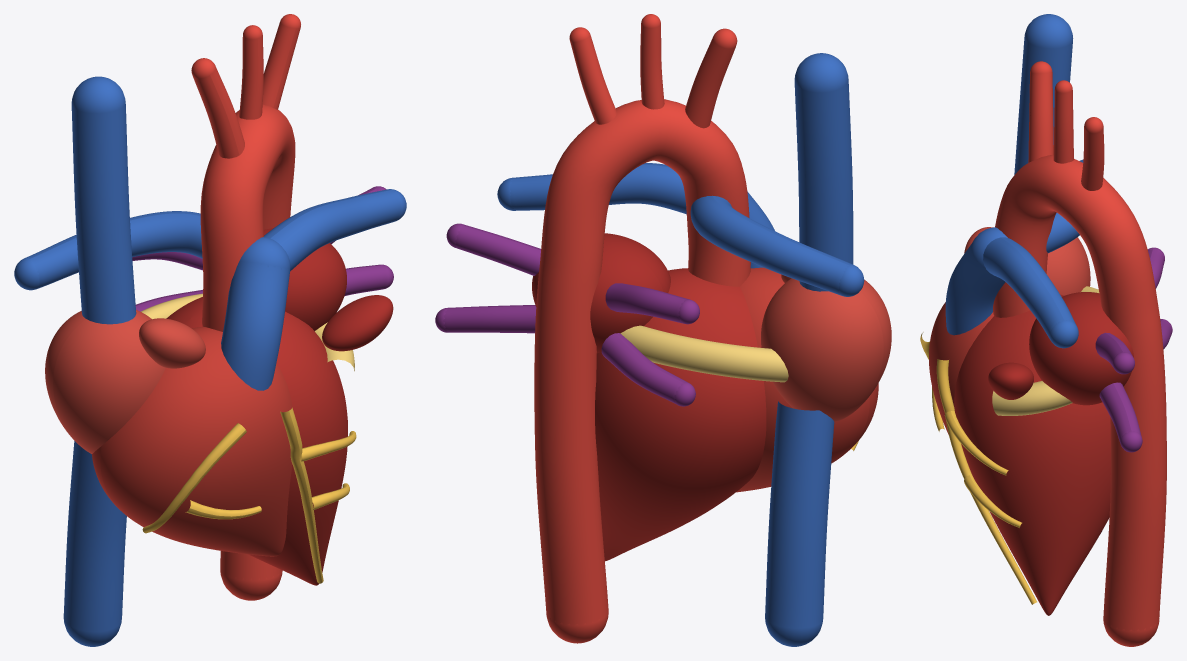
File: heart.glb
3 renders of one model, left to right at view 1: azimuth 30°, elevation 25°; view 2: azimuth 150°, elevation 25°; view 3: azimuth 270°, elevation 25°, orthographic. The views are drawn at different scales.
Parts seen in each view (by area): view 1: RightVentricle, Aorta, LeftVentricle, SuperiorVenaCava, RightAtrium, InferiorVenaCava, PulmonaryArtery, PulmonaryArtery_Left, PulmonaryArtery_Right, LeftAtrium, LeftAtrium_Auricle, RightAtrium_Auricle (+15 smaller); view 2: Aorta, LeftVentricle, RightAtrium, InferiorVenaCava, SuperiorVenaCava, PulmonaryArtery_Right, CoronaryArteries_Groove, LeftAtrium, RightVentricle, PulmonaryArtery_Left, PulmonaryVeins_1, PulmonaryVeins_3 (+8 smaller); view 3: Aorta, LeftVentricle, LeftAtrium, PulmonaryArtery_Left, PulmonaryArtery, SuperiorVenaCava, RightVentricle, Aorta_Brachiocephalic, CoronaryArteries_0, RightAtrium, CoronaryArteries_Groove, Aorta_LeftCarotid (+14 smaller).
Part boxes in pixels (x1,y1,x2,y2): RightVentricle: (92,326,292,556); Aorta: (200,104,295,580); LeftVentricle: (166,297,347,585); SuperiorVenaCava: (71,104,136,324); RightAtrium: (45,309,165,453); InferiorVenaCava: (63,441,126,631); PulmonaryArtery: (221,261,290,390); PulmonaryArtery_Left: (264,189,402,270); PulmonaryArtery_Right: (25,211,202,288); LeftAtrium: (263,228,346,331); LeftAtrium_Auricle: (322,295,393,351); RightAtrium_Auricle: (139,318,205,368); Aorta: (534,99,750,625); LeftVentricle: (595,268,766,561); RightAtrium: (761,278,891,422); InferiorVenaCava: (765,401,834,628); SuperiorVenaCava: (794,80,853,291); PulmonaryArtery_Right: (690,195,852,295); CoronaryArteries_Groove: (620,325,788,382); LeftAtrium: (532,233,670,353); RightVentricle: (736,267,878,492); PulmonaryArtery_Left: (510,163,686,214); PulmonaryVeins_1: (443,305,536,333); PulmonaryVeins_3: (601,333,687,403); Aorta: (993,155,1166,631); LeftVentricle: (954,294,1110,615); LeftAtrium: (1029,292,1133,405); PulmonaryArtery_Left: (983,237,1075,338); PulmonaryArtery: (945,242,1005,335); SuperiorVenaCava: (1014,37,1072,174); RightVentricle: (929,302,993,434); Aorta_Brachiocephalic: (1028,72,1053,162); CoronaryArteries_0: (936,359,1036,604); RightAtrium: (1046,237,1090,295); CoronaryArteries_Groove: (992,286,1099,415); Aorta_LeftCarotid: (1053,89,1073,163).
Bounding box in the file's own units: 1.11 × 1.61 × 0.6723.
